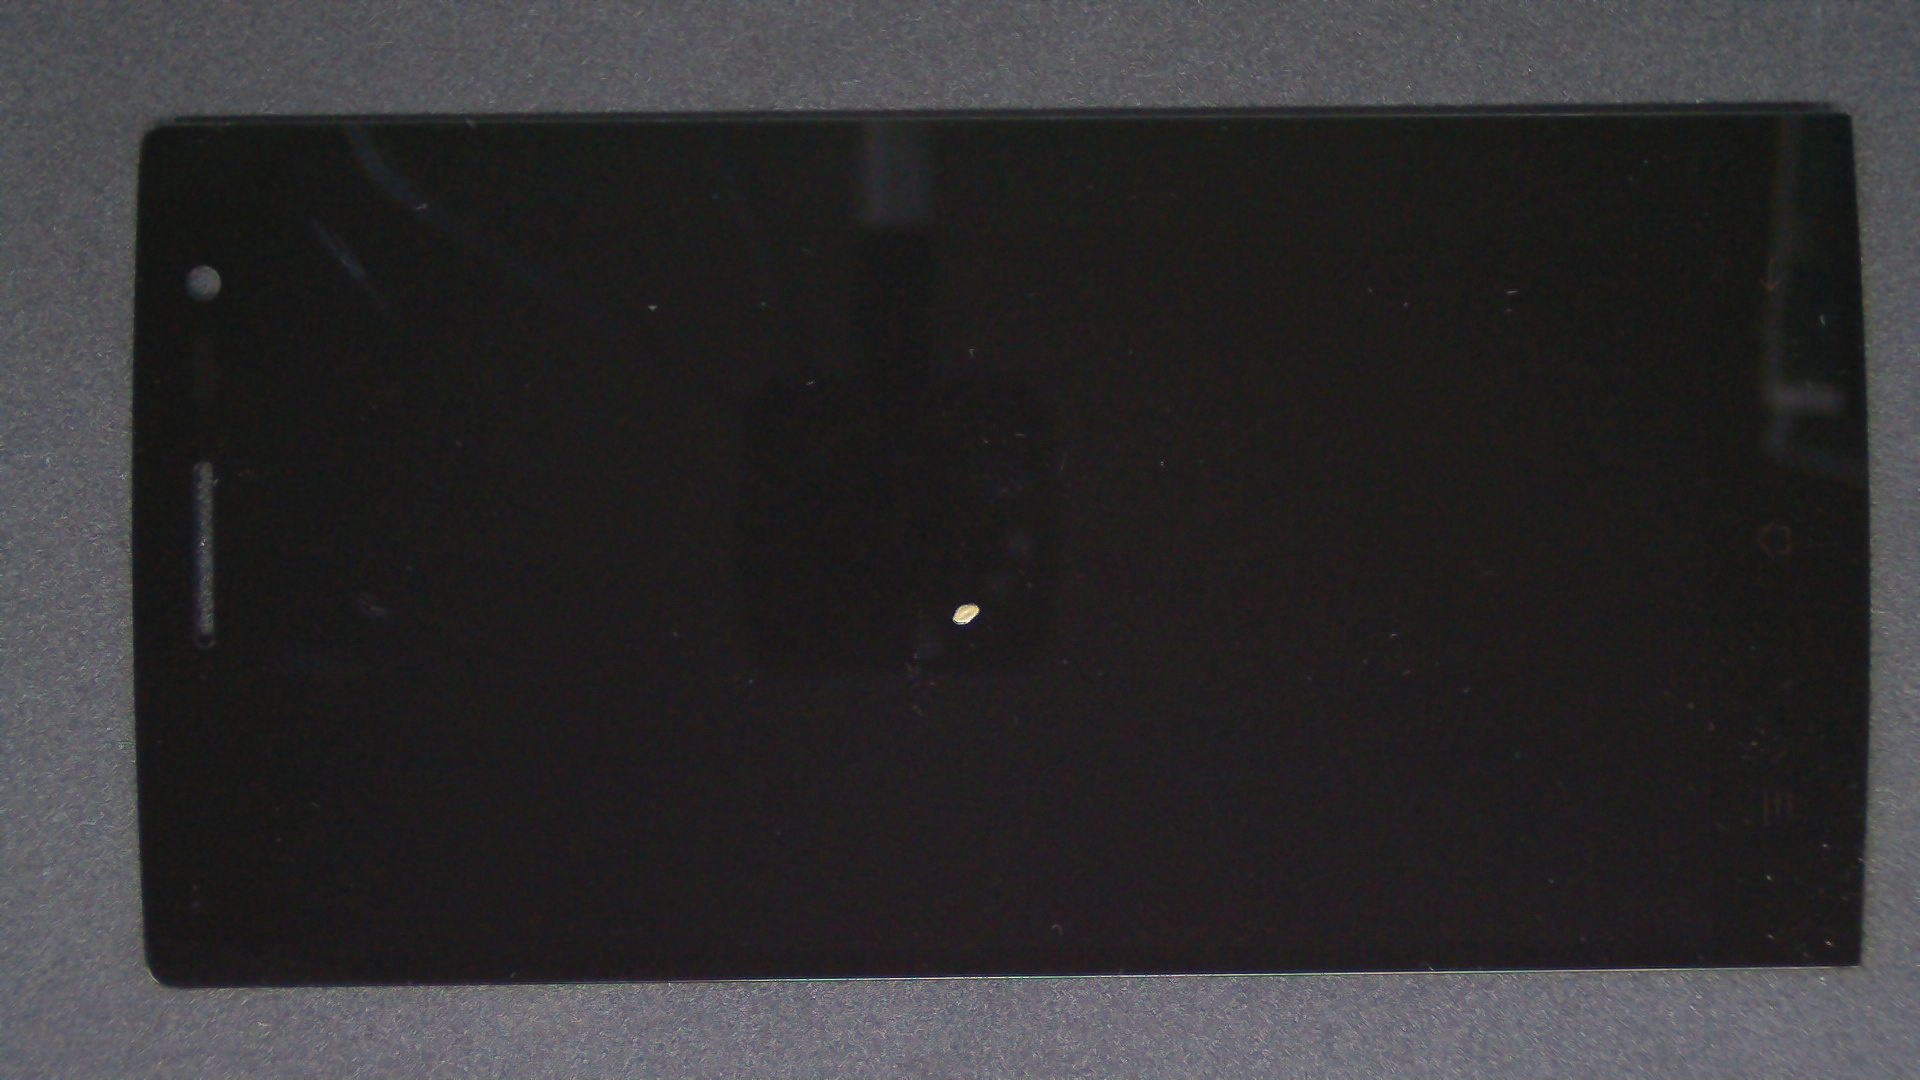oil: (485, 301, 1455, 903)
